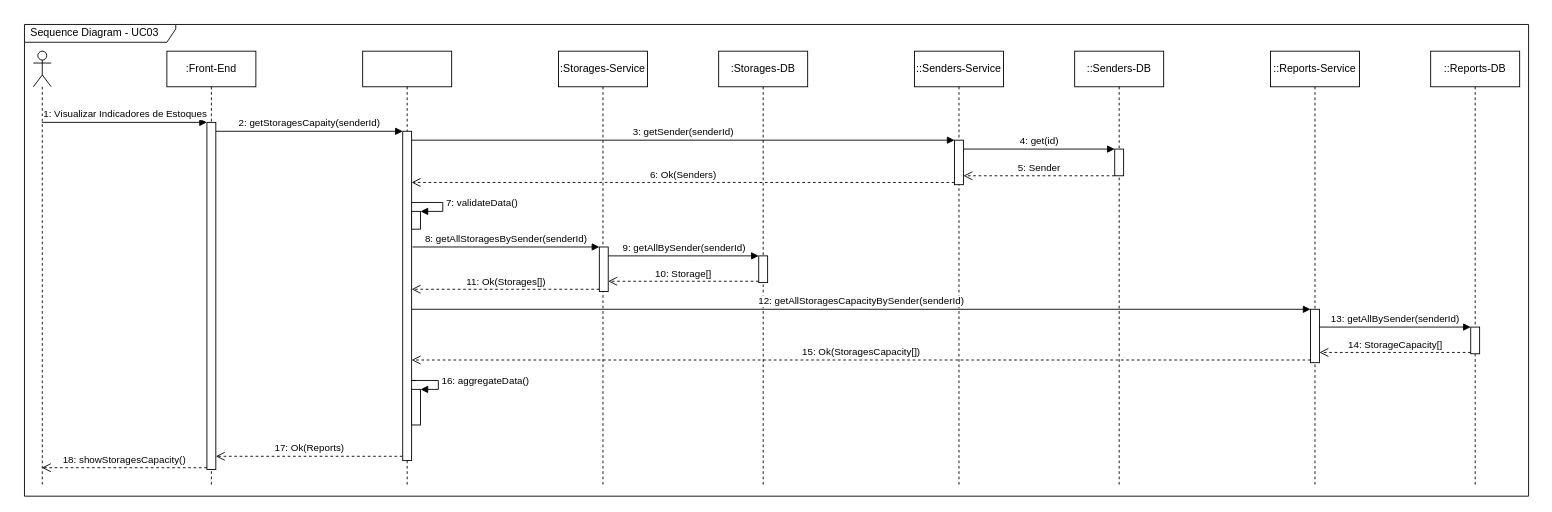
The diagram is 1552 pixels wide and 512 high, and some of its shapes have lost their labels. Here are the shapes that lost their labels. From the top down, the box of each, then its label:
(32, 50, 51, 487): Actor
(362, 50, 452, 487): :Wb-BFF
